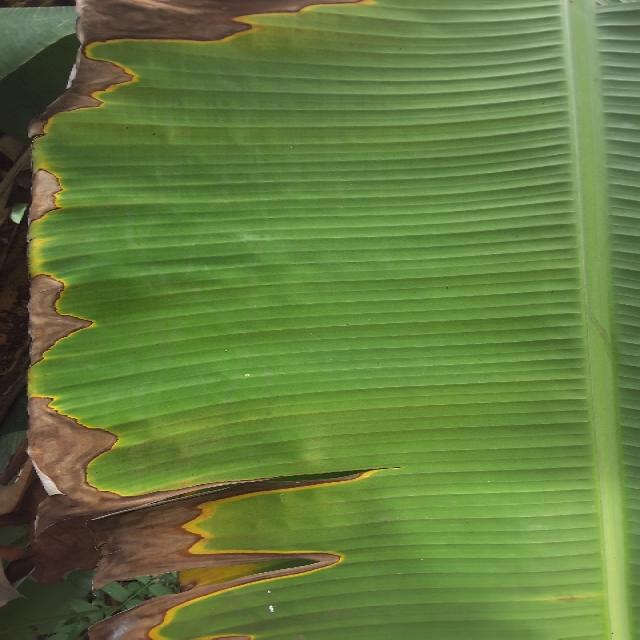Cordana: (27, 0, 450, 640)
